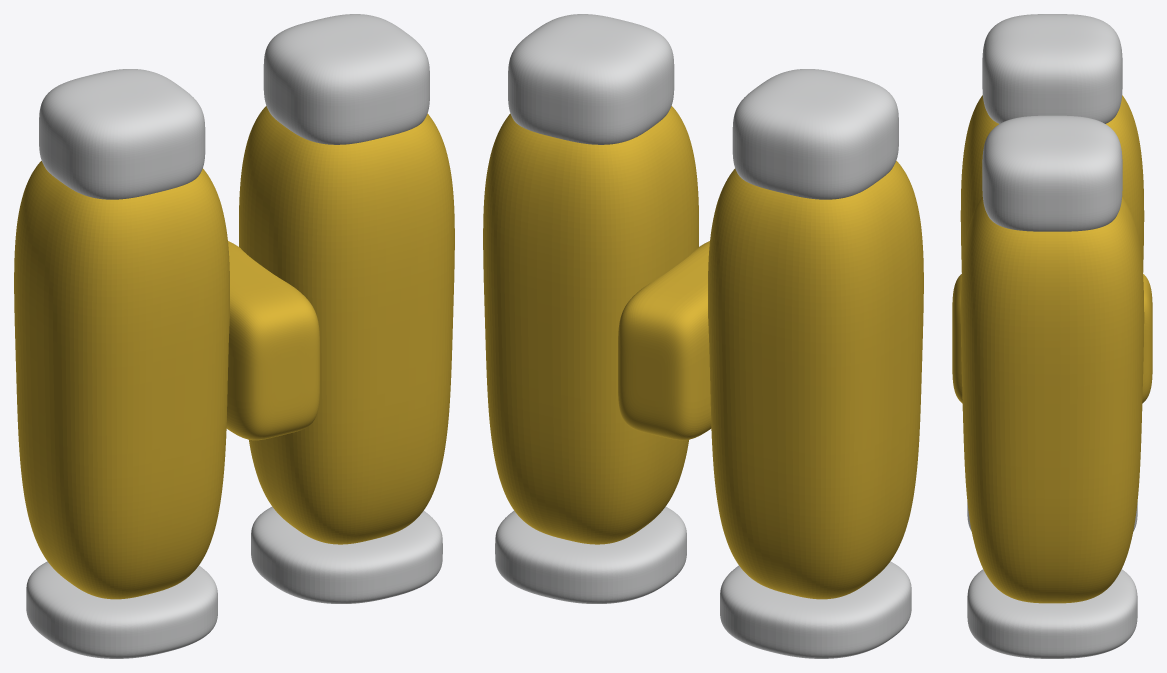
The model's file is classic_binoculars_sq.glb.
The picture shows the model from 3 angles, left to right: view 1: azimuth 30°, elevation 25°; view 2: azimuth 150°, elevation 25°; view 3: azimuth 270°, elevation 25°; orthographic projection. The views are drawn at different scales.
Parts seen in each view (by area): view 1: superquadric_0, superquadric_1, superquadric_4, superquadric_3, superquadric_2, superquadric_5, superquadric_6; view 2: superquadric_0, superquadric_1, superquadric_4, superquadric_3, superquadric_2, superquadric_5, superquadric_6; view 3: superquadric_1, superquadric_4, superquadric_3, superquadric_6, superquadric_0, superquadric_2.
Boxes of the visible parts, x1,y1,x2,y2 form: superquadric_0: (14, 161, 229, 599); superquadric_1: (239, 106, 454, 544); superquadric_4: (263, 14, 429, 144); superquadric_3: (39, 69, 205, 199); superquadric_2: (226, 241, 319, 440); superquadric_5: (26, 561, 217, 658); superquadric_6: (251, 506, 442, 603); superquadric_0: (708, 161, 923, 599); superquadric_1: (483, 106, 698, 544); superquadric_4: (508, 14, 674, 144); superquadric_3: (732, 69, 898, 199); superquadric_2: (618, 241, 711, 440); superquadric_5: (720, 561, 911, 658); superquadric_6: (495, 506, 686, 603); superquadric_1: (960, 197, 1144, 603); superquadric_4: (982, 115, 1122, 231); superquadric_3: (982, 14, 1122, 123); superquadric_6: (967, 569, 1137, 658); superquadric_0: (960, 95, 1144, 272); superquadric_2: (952, 274, 1152, 403).
Size of the model in its own units: 0.776 by 1 by 0.367.
